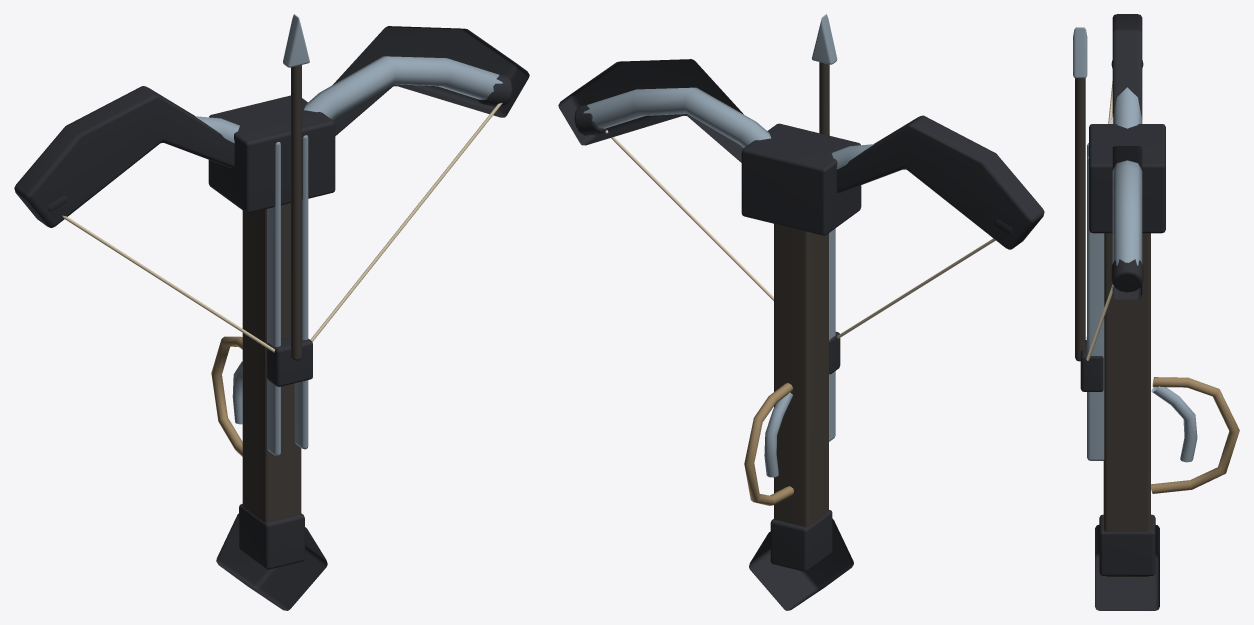
Rendered from raven-mechanism.glb.
The picture shows the model from 3 angles, left to right: view 1: azimuth 30°, elevation 25°; view 2: azimuth 150°, elevation 25°; view 3: azimuth 270°, elevation 25°; orthographic projection. The views are drawn at different scales.
Visible parts, largest first — view 1: Crossbow raven wing, Crossbow stock, Central spanning limb socket, Crossbow raven wing.001, Continuous crossbow limb.001, Stock pointed butt, Raised bolt guide, Bolt, Butt-to-stock socket, Raised bolt guide.001, Nut and latch, Trigger guard (+3 smaller); view 2: Crossbow stock, Crossbow raven wing, Central spanning limb socket, Crossbow raven wing.001, Continuous crossbow limb.001, Stock pointed butt, Butt-to-stock socket, Trigger guard, Raised bolt guide, Trigger lever, String right, Bolt arrowhead (+2 smaller); view 3: Crossbow stock, Central spanning limb socket, Raised bolt guide.001, Continuous crossbow limb.001, Bolt, Stock pointed butt, Butt-to-stock socket, Crossbow raven wing, Trigger guard, Trigger lever, Limb tip string anchor.001, Nut and latch (+4 smaller).
Boxes of the visible parts, box(x1,y1,x2,y2) form: Crossbow raven wing: box(14, 86, 234, 227); Crossbow stock: box(242, 203, 301, 567); Central spanning limb socket: box(208, 95, 335, 213); Crossbow raven wing.001: box(333, 26, 529, 135); Continuous crossbow limb.001: box(304, 56, 502, 120); Stock pointed butt: box(216, 513, 327, 610); Raised bolt guide: box(267, 142, 280, 455); Bolt: box(291, 65, 301, 360); Butt-to-stock socket: box(239, 504, 304, 569); Raised bolt guide.001: box(294, 135, 308, 449); Nut and latch: box(267, 336, 312, 386); Trigger guard: box(211, 336, 242, 456); Crossbow stock: box(774, 224, 828, 527); Crossbow raven wing: box(836, 115, 1044, 249); Central spanning limb socket: box(741, 123, 861, 235); Crossbow raven wing.001: box(558, 59, 743, 162); Continuous crossbow limb.001: box(583, 87, 770, 147); Stock pointed butt: box(749, 518, 853, 610); Butt-to-stock socket: box(770, 510, 832, 571); Trigger guard: box(744, 383, 793, 505); Raised bolt guide: box(829, 228, 835, 441); Trigger lever: box(764, 392, 792, 477); String right: box(605, 130, 773, 300); Bolt arrowhead: box(812, 14, 837, 64); Crossbow stock: box(1103, 233, 1150, 576); Central spanning limb socket: box(1089, 124, 1165, 233); Raised bolt guide.001: box(1087, 156, 1104, 460); Continuous crossbow limb.001: box(1112, 160, 1142, 265); Bolt: box(1075, 78, 1085, 361); Stock pointed butt: box(1095, 525, 1159, 610); Butt-to-stock socket: box(1099, 514, 1155, 575); Crossbow raven wing: box(1112, 14, 1142, 119); Trigger guard: box(1151, 377, 1239, 493); Trigger lever: box(1151, 386, 1197, 462); Limb tip string anchor.001: box(1111, 259, 1143, 292); Nut and latch: box(1080, 340, 1103, 391).
Bounding box in the file's own units: 0.9538 × 1.09 × 0.2823.
